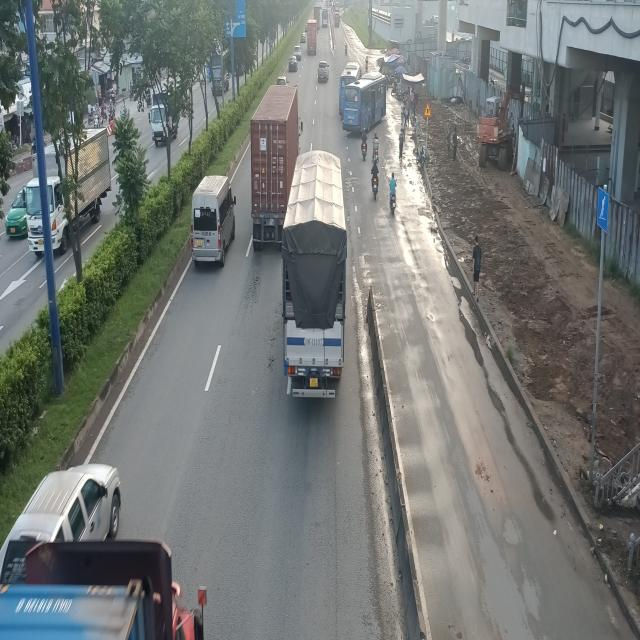coach: (339, 77, 388, 137)
container: (252, 84, 303, 249)
truck: (280, 152, 348, 404)
van: (192, 175, 238, 269)
